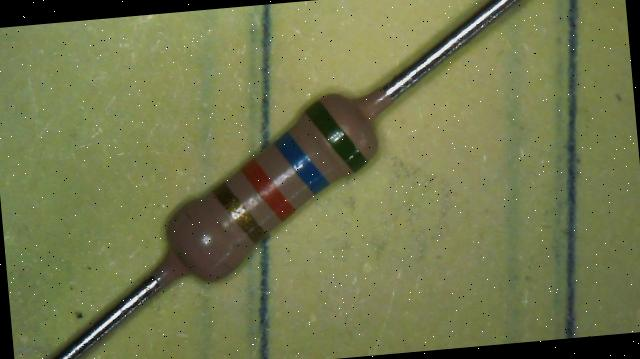blue: (276, 129, 330, 197)
gold: (214, 180, 265, 246)
green: (304, 96, 366, 175)
orange: (242, 156, 296, 224)
resistor: (123, 57, 409, 313)
